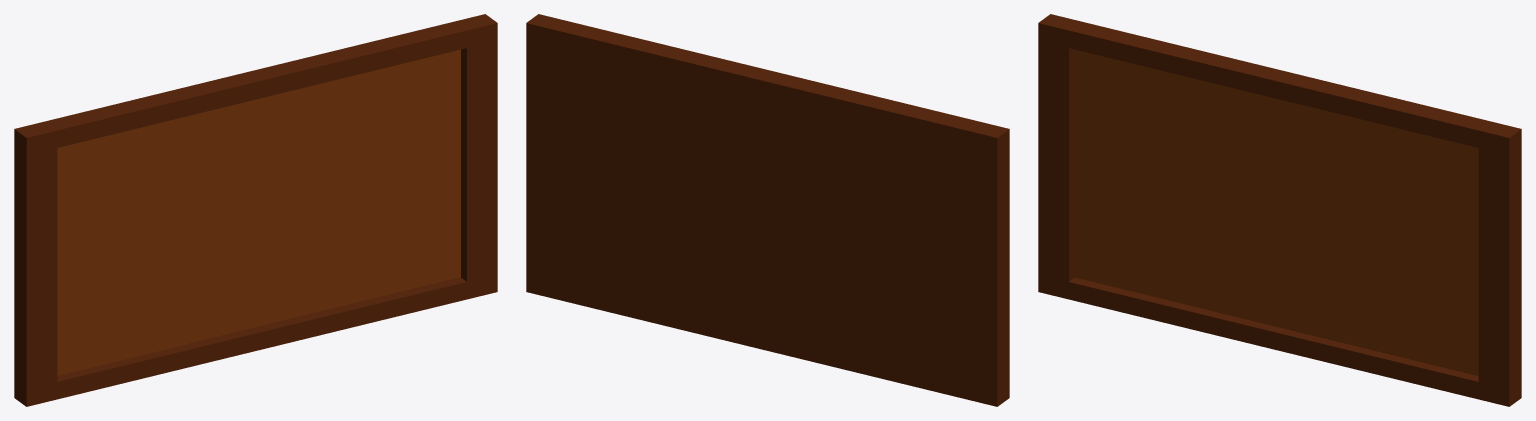
The model's file is Pizarron.obj.
3 renders of one model, left to right at view 1: azimuth 30°, elevation 25°; view 2: azimuth 150°, elevation 25°; view 3: azimuth 330°, elevation 25°, orthographic.
Parts seen in each view (by area): view 1: Cube.013_Cube.019; view 2: Cube.013_Cube.019; view 3: Cube.013_Cube.019.
Part boxes in pixels (x1,y1,x2,y2): Cube.013_Cube.019: [14, 14, 497, 406]; Cube.013_Cube.019: [526, 14, 1009, 406]; Cube.013_Cube.019: [1038, 14, 1521, 406].
Size of the model in its own units: 22 by 12 by 1.
1 material, 1 textured.
